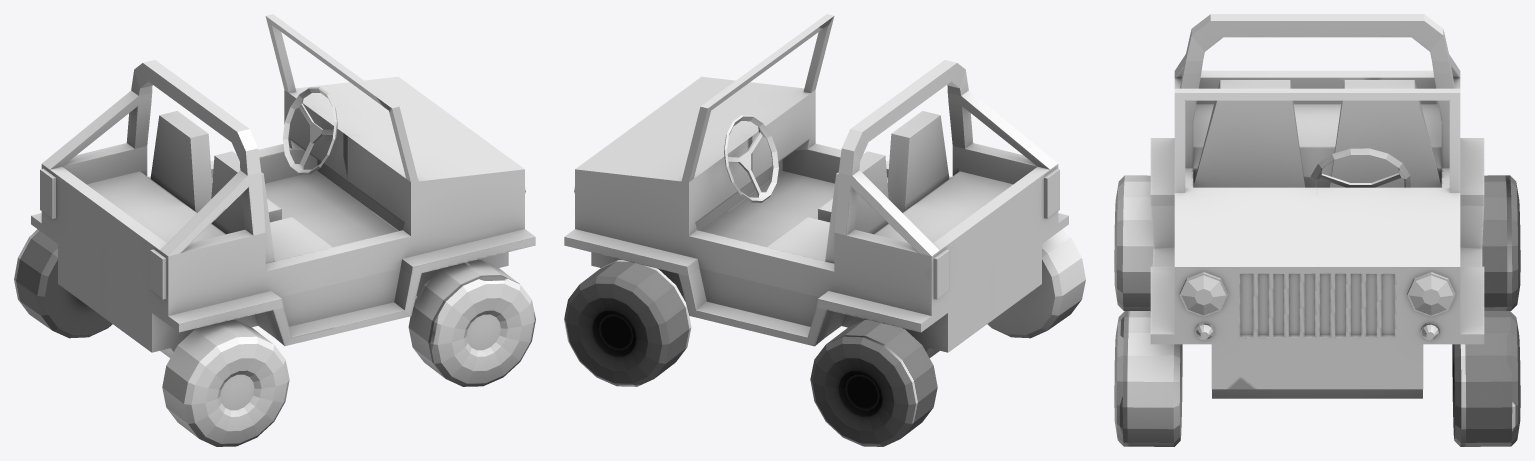
The model's file is lowpoly_truck.glb.
3 renders of one model, left to right at view 1: azimuth 30°, elevation 25°; view 2: azimuth 150°, elevation 25°; view 3: azimuth 270°, elevation 25°, orthographic. The views are drawn at different scales.
Visible parts, largest first — view 1: Body, TireBR, TireFR, TireBL, SteeringWheel; view 2: Body, TireBL, TireFL, TireBR, SteeringWheel; view 3: Body, TireFR, TireFL, TireBR, TireBL, SteeringWheel.
Boxes of the visible parts, bbox=[...] form: Body: bbox=[31, 14, 535, 357]; TireBR: bbox=[162, 320, 289, 446]; TireFR: bbox=[408, 260, 535, 386]; TireBL: bbox=[14, 229, 112, 338]; SteeringWheel: bbox=[282, 87, 337, 174]; Body: bbox=[564, 14, 1068, 357]; TireBL: bbox=[810, 320, 937, 446]; TireFL: bbox=[564, 260, 691, 386]; TireBR: bbox=[987, 229, 1085, 338]; SteeringWheel: bbox=[724, 115, 778, 202]; Body: bbox=[1150, 14, 1484, 398]; TireFR: bbox=[1114, 311, 1182, 446]; TireFL: bbox=[1452, 311, 1520, 446]; TireBR: bbox=[1114, 175, 1153, 310]; TireBL: bbox=[1482, 175, 1520, 310]; SteeringWheel: bbox=[1310, 148, 1410, 187].
Size of what is drawn, in the model's own units: 4.83 by 3.45 by 4.05.
Materials: 2 (2 with a texture image).
